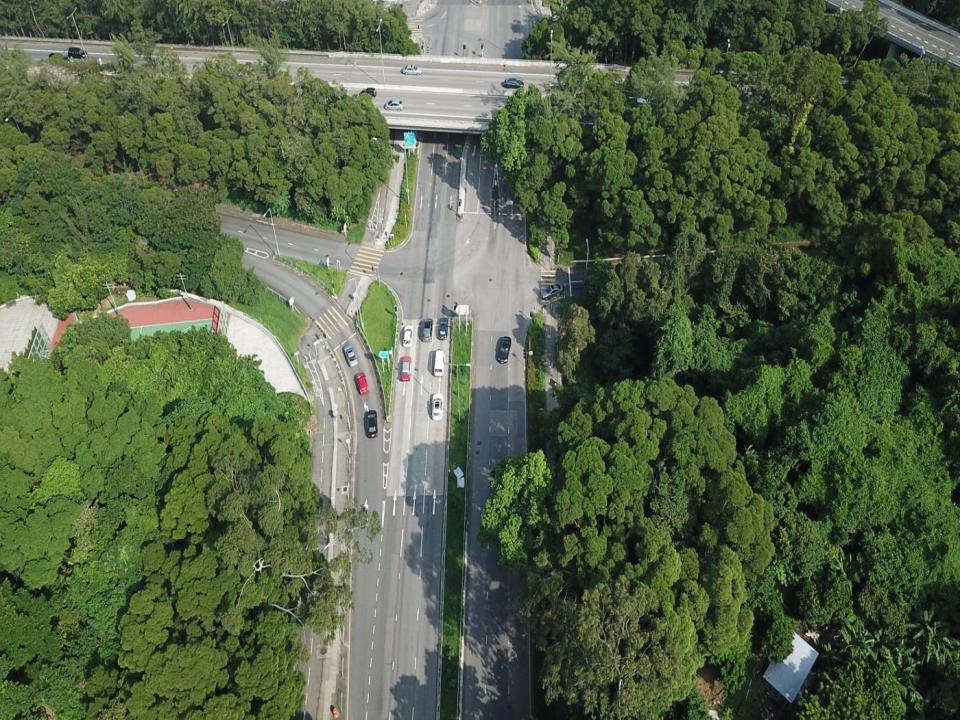car: (540, 282, 564, 301), (497, 335, 512, 364), (365, 409, 378, 438), (343, 344, 358, 368), (355, 372, 370, 395), (431, 392, 443, 420), (402, 324, 414, 348), (400, 355, 411, 381), (503, 77, 525, 90), (422, 318, 433, 343), (384, 99, 405, 112), (438, 316, 449, 340), (402, 64, 422, 76), (360, 86, 377, 98)
van: (434, 348, 446, 377)
